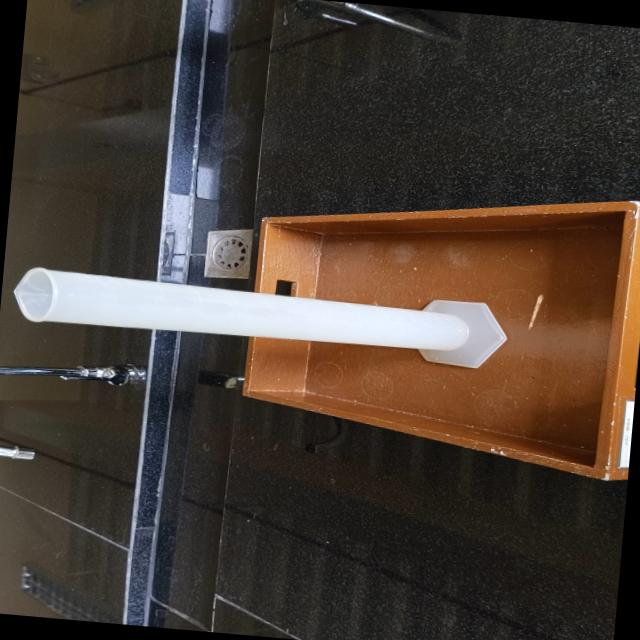graduated_cylinder: (2, 254, 514, 375)
